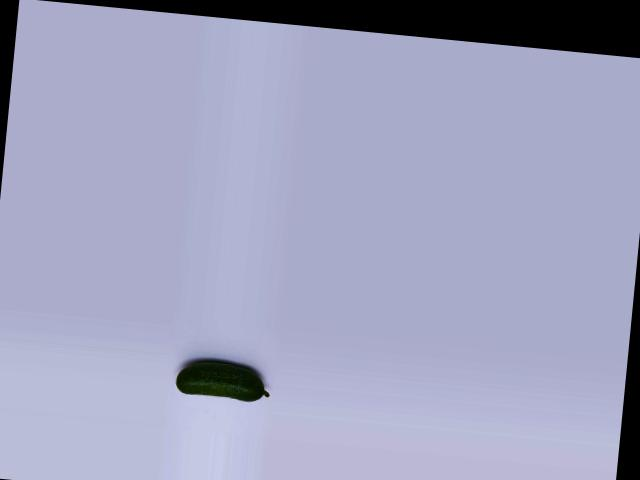cucumber: (174, 358, 271, 402)
